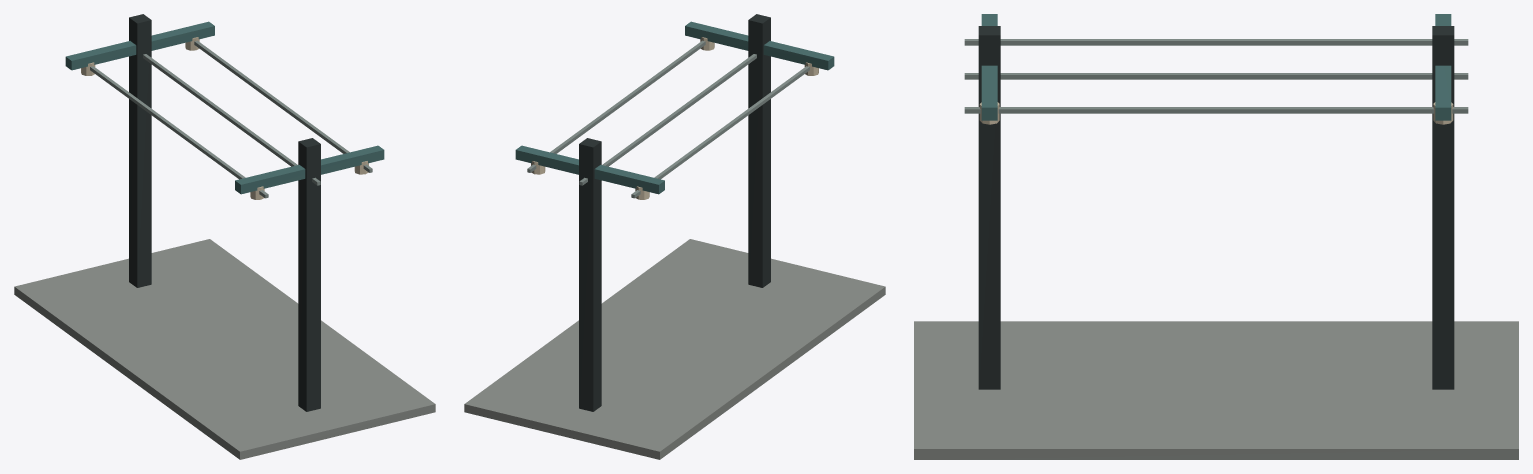
The model's file is power-lines.source.glb.
3 renders of one model, left to right at view 1: azimuth 30°, elevation 25°; view 2: azimuth 150°, elevation 25°; view 3: azimuth 270°, elevation 25°, orthographic. The views are drawn at different scales.
Parts seen in each view (by area): view 1: power-lines-ground-strip-mesh, power-lines-pole-2.25-mesh, power-lines-pole--2.25-mesh, power-lines-crossarm--2.25-mesh, power-lines-crossarm-2.25-mesh, power-lines-power-cable--0.8-mesh, power-lines-power-cable-0.8-mesh, power-lines-power-cable-0-mesh; view 2: power-lines-ground-strip-mesh, power-lines-pole--2.25-mesh, power-lines-pole-2.25-mesh, power-lines-crossarm-2.25-mesh, power-lines-crossarm--2.25-mesh, power-lines-power-cable--0.8-mesh, power-lines-power-cable-0.8-mesh, power-lines-power-cable-0-mesh; view 3: power-lines-ground-strip-mesh, power-lines-pole--2.25-mesh, power-lines-pole-2.25-mesh, power-lines-power-cable-0.8-mesh, power-lines-power-cable--0.8-mesh, power-lines-power-cable-0-mesh, power-lines-crossarm--2.25-mesh, power-lines-crossarm-2.25-mesh.
Boxes of the visible parts, bbox=[...] form: power-lines-ground-strip-mesh: bbox=[14, 239, 435, 459]; power-lines-pole-2.25-mesh: bbox=[298, 138, 320, 411]; power-lines-pole--2.25-mesh: bbox=[129, 14, 151, 287]; power-lines-crossarm--2.25-mesh: bbox=[65, 21, 214, 70]; power-lines-crossarm-2.25-mesh: bbox=[235, 145, 384, 194]; power-lines-power-cable--0.8-mesh: bbox=[90, 66, 268, 198]; power-lines-power-cable-0.8-mesh: bbox=[194, 40, 372, 172]; power-lines-power-cable-0-mesh: bbox=[143, 54, 320, 185]; power-lines-ground-strip-mesh: bbox=[464, 239, 885, 459]; power-lines-pole--2.25-mesh: bbox=[579, 138, 601, 411]; power-lines-pole-2.25-mesh: bbox=[748, 14, 770, 287]; power-lines-crossarm-2.25-mesh: bbox=[685, 21, 834, 70]; power-lines-crossarm--2.25-mesh: bbox=[515, 145, 664, 194]; power-lines-power-cable--0.8-mesh: bbox=[631, 66, 809, 198]; power-lines-power-cable-0.8-mesh: bbox=[527, 40, 705, 172]; power-lines-power-cable-0-mesh: bbox=[579, 54, 756, 185]; power-lines-ground-strip-mesh: bbox=[914, 321, 1518, 459]; power-lines-pole--2.25-mesh: bbox=[1432, 26, 1454, 389]; power-lines-pole-2.25-mesh: bbox=[978, 26, 1000, 389]; power-lines-power-cable-0.8-mesh: bbox=[964, 107, 1468, 113]; power-lines-power-cable--0.8-mesh: bbox=[964, 39, 1468, 45]; power-lines-power-cable-0-mesh: bbox=[964, 73, 1468, 79]; power-lines-crossarm--2.25-mesh: bbox=[1435, 14, 1451, 120]; power-lines-crossarm-2.25-mesh: bbox=[981, 14, 997, 120].
Bounding box in the file's own units: 3 × 4 × 6.
